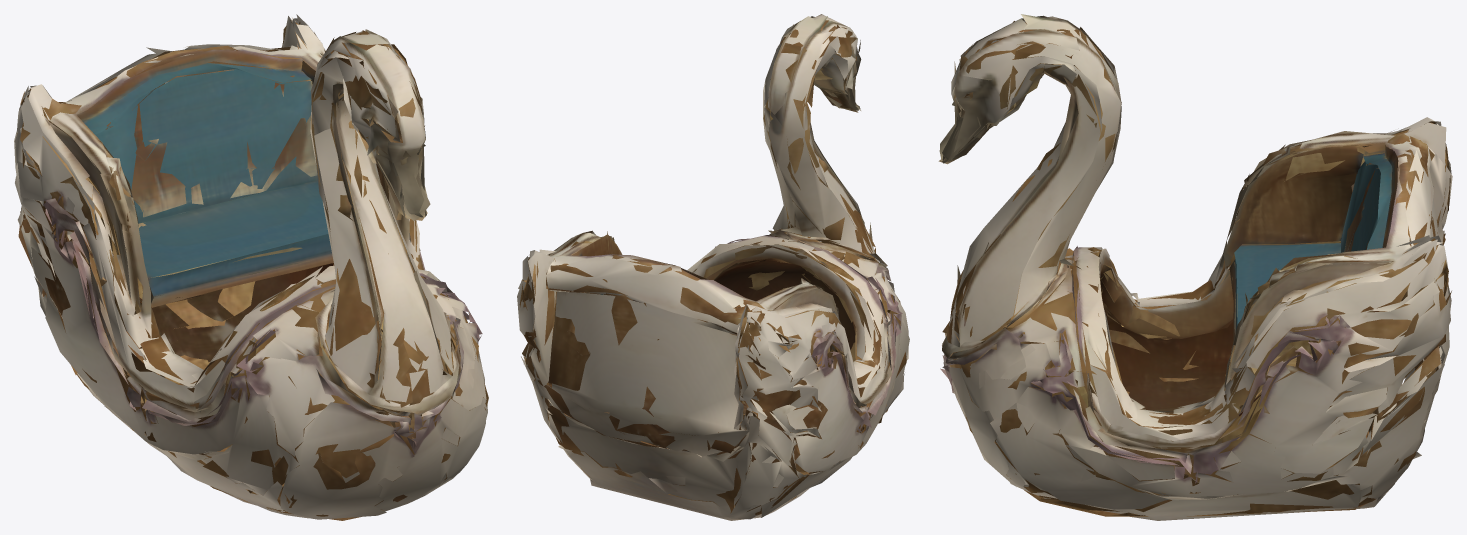
The model's file is unified--detail--carousel-swan.glb.
The picture shows the model from 3 angles, left to right: view 1: azimuth 30°, elevation 25°; view 2: azimuth 150°, elevation 25°; view 3: azimuth 270°, elevation 25°; orthographic projection. The views are drawn at different scales.
Visible parts, largest first — view 1: carousel-swan-1; view 2: carousel-swan-1; view 3: carousel-swan-1.
Part boxes in pixels (x1,y1,x2,y2): carousel-swan-1: (14, 14, 488, 520); carousel-swan-1: (517, 14, 909, 520); carousel-swan-1: (938, 14, 1452, 520).
Size of the model in its own units: 1.32 by 1.83 by 1.81.
Materials: 1 (1 with a texture image).
